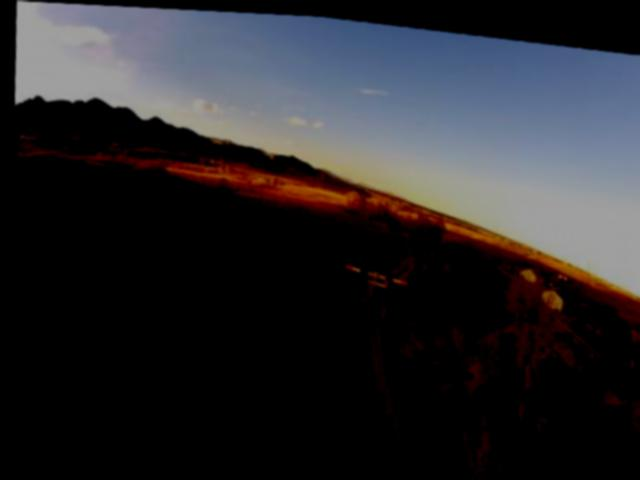uav: (341, 252, 407, 287)
